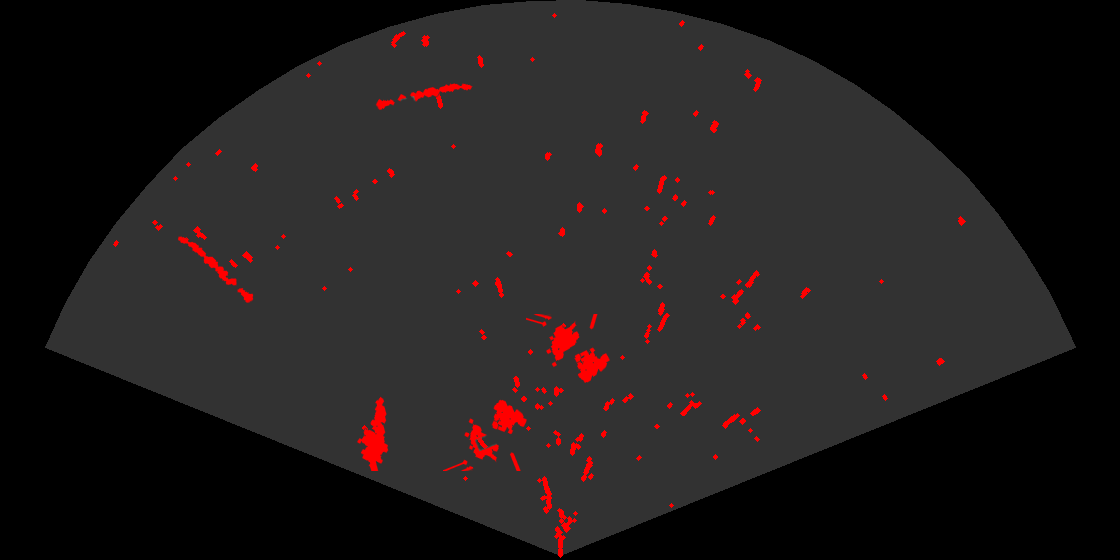cage: (443, 398, 528, 471), (526, 314, 611, 384)
chain: (176, 235, 255, 305), (374, 82, 474, 112)
frogman: (355, 395, 390, 471)
